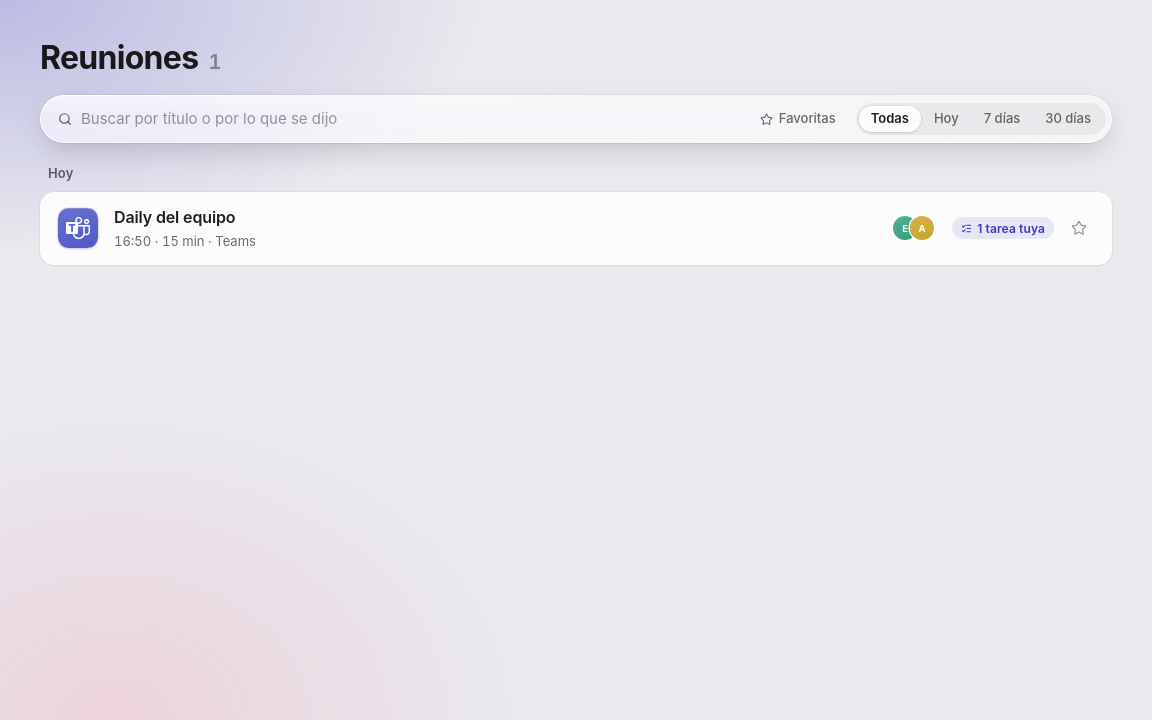
Test: MeetingListContainer › si un filtro deja la lista vacía, lo dice
Type "zzz" into the search field named "Buscar reuniones".
click(404, 119); type("zzz")  # box [81,101,728,137]
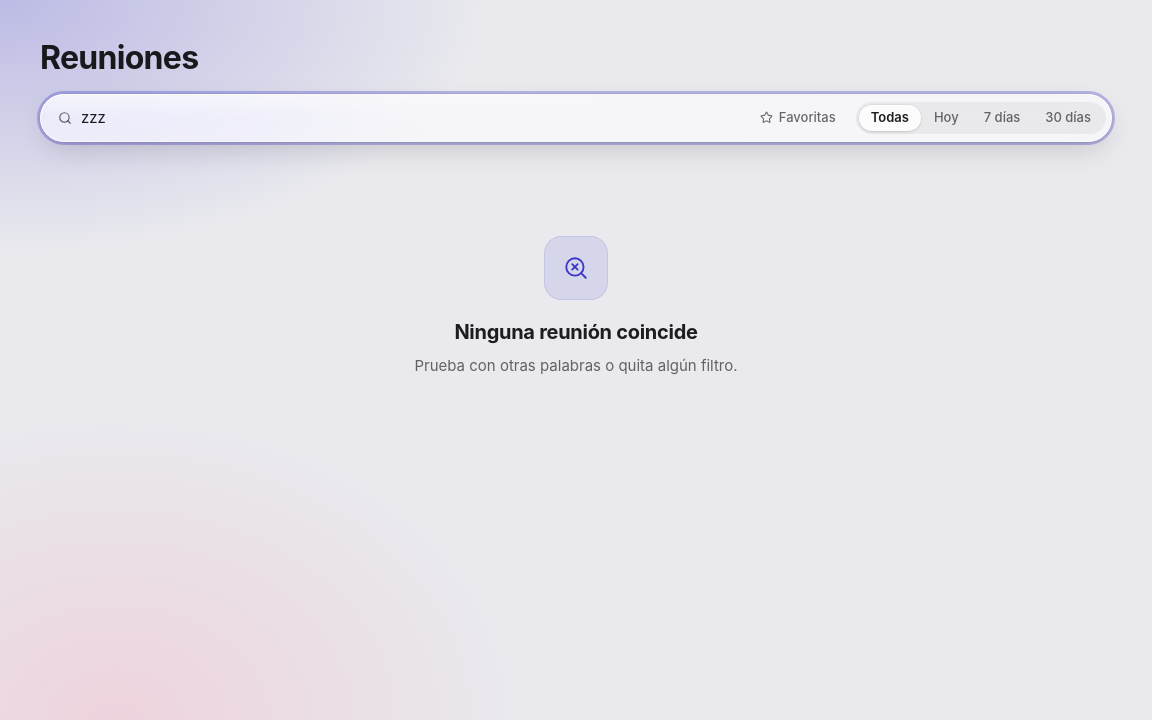
expect the text "Ninguna reunión coincide" is shown: met, box [454,318,698,347]
